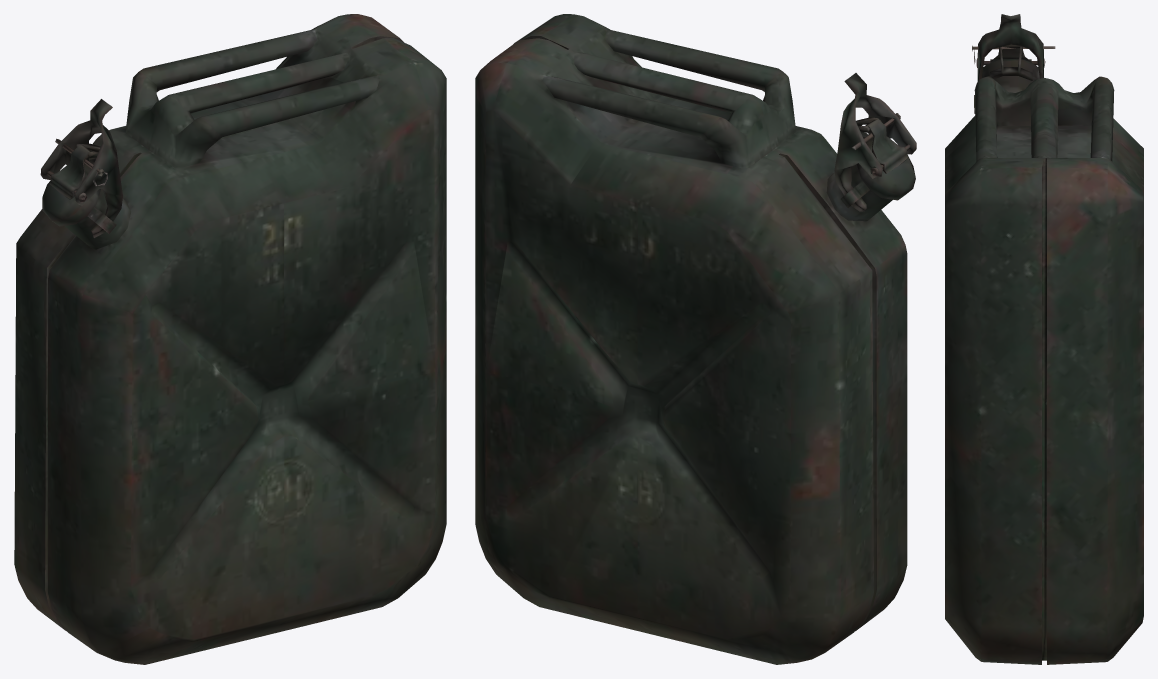
File: ph_jerrycan.glb
3 views of the same model, side by side, from view 1: azimuth 30°, elevation 25°; view 2: azimuth 150°, elevation 25°; view 3: azimuth 270°, elevation 25° (orthographic). The views are drawn at different scales.
Parts seen in each view (by area): view 1: metal_jerrycan_green_pin; view 2: metal_jerrycan_green_pin; view 3: metal_jerrycan_green_pin.
Part boxes in pixels (x1,y1,x2,y2): metal_jerrycan_green_pin: (14,14,446,664); metal_jerrycan_green_pin: (475,14,916,664); metal_jerrycan_green_pin: (945,14,1143,664).
Size of the model in its own units: 0.36 by 0.4998 by 0.1709.
1 material, 1 textured.
